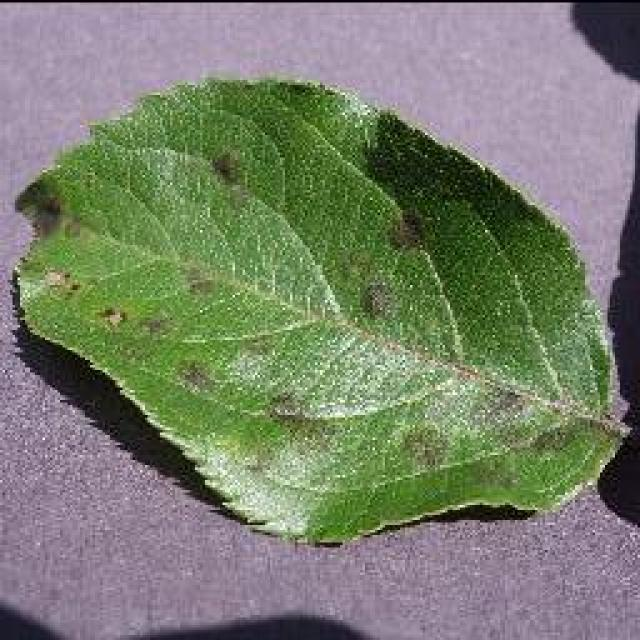apple scab disease: (10, 72, 632, 548)
